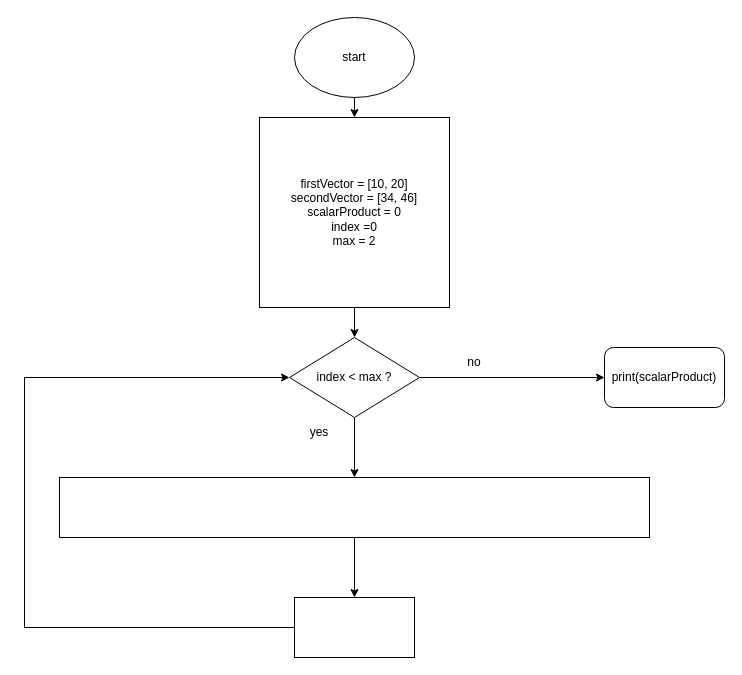
Some shapes in this 742 by 675 pixel diagram are drawn without their labels. The shapes that lost their labels are listed below. From the top down, each one's centre as x and y in pixels, then its label:
At point 354,507: "scalarProduct = scalarProduct + firstVector[index] * secondVector[index]".
At point 354,627: "index = index + 1".
